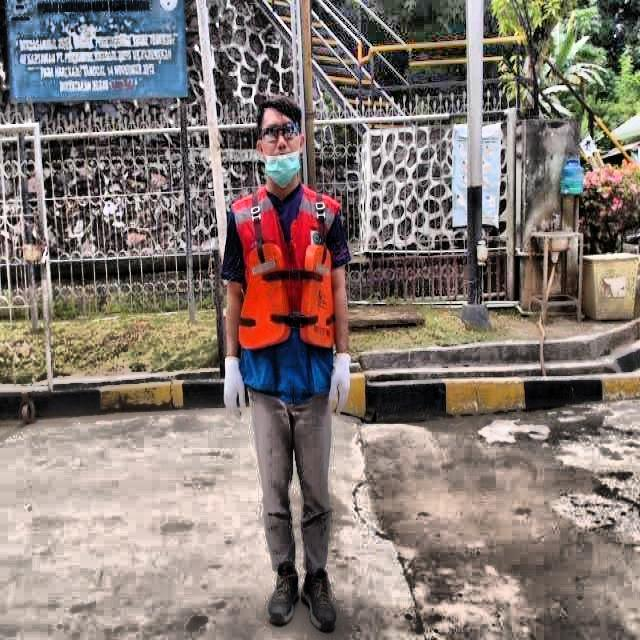safety_jacket: (233, 183, 340, 400)
